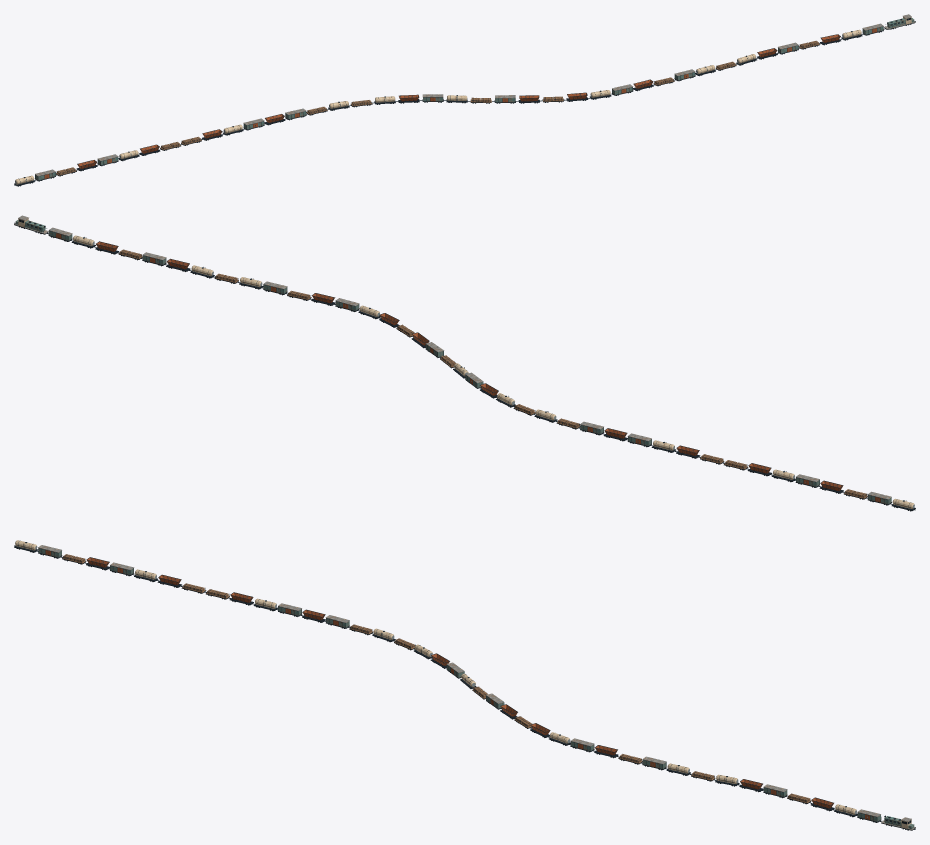
The model's file is freight-train-40-game.glb.
The picture shows the model from 3 angles, top to bottom: view 1: azimuth 30°, elevation 25°; view 2: azimuth 150°, elevation 25°; view 3: azimuth 330°, elevation 25°; orthographic projection. The views are drawn at different scales.
Bounding box in the file's own units: 473 × 5.48 × 60.05.
2 materials, 2 textured.
